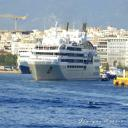cruises: (27, 22, 103, 83)
